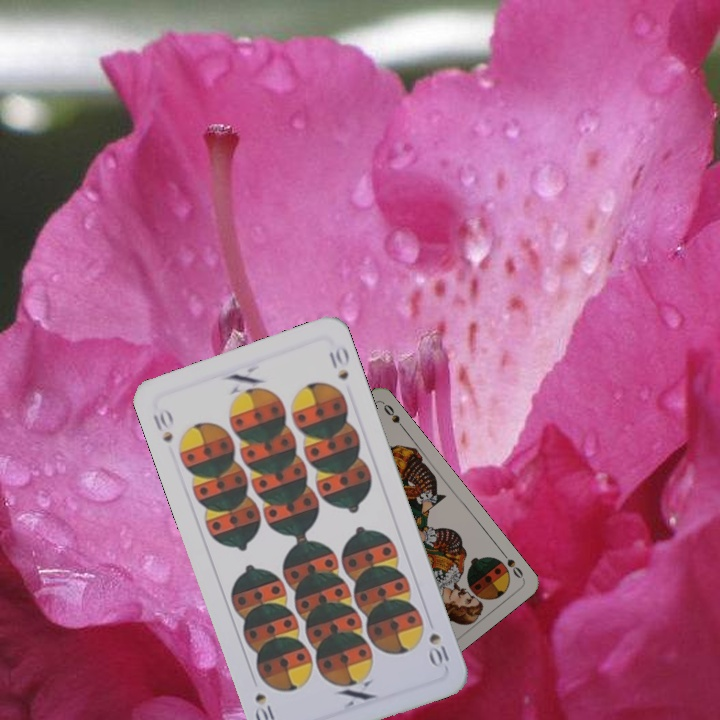S10: (149, 405, 176, 445), (425, 629, 452, 668)
SO: (497, 547, 527, 582)
